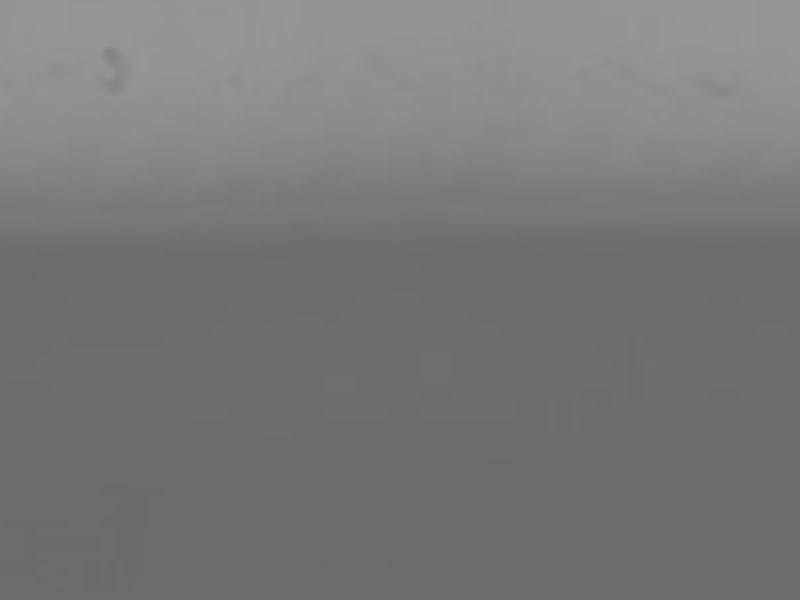defect: (699, 71, 738, 97), (100, 67, 127, 98), (45, 55, 70, 77), (226, 65, 244, 92), (100, 42, 122, 64)
